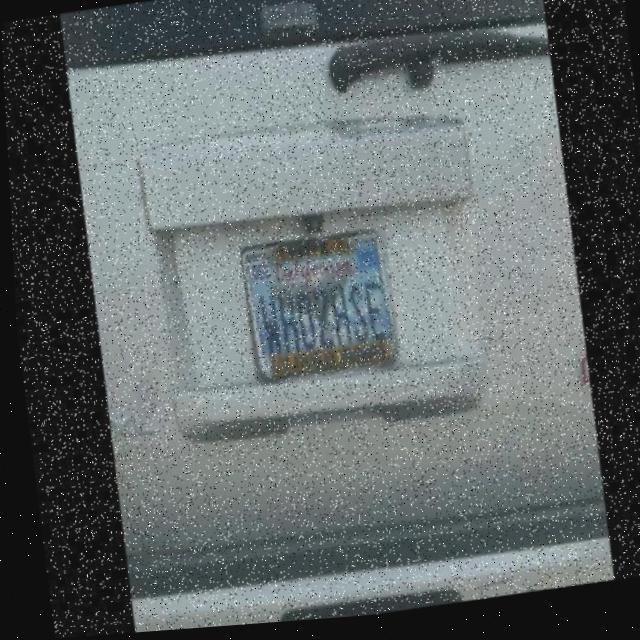LicensePlate: (236, 231, 397, 390)
